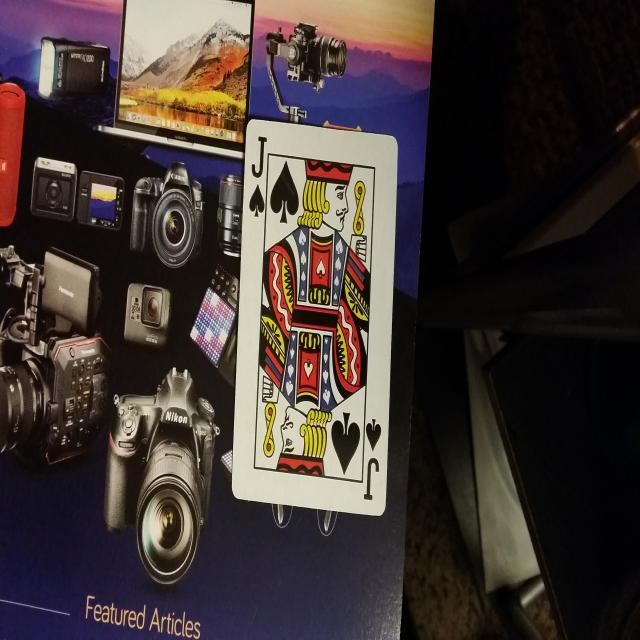Js: (247, 127, 273, 227), (361, 412, 384, 507)
